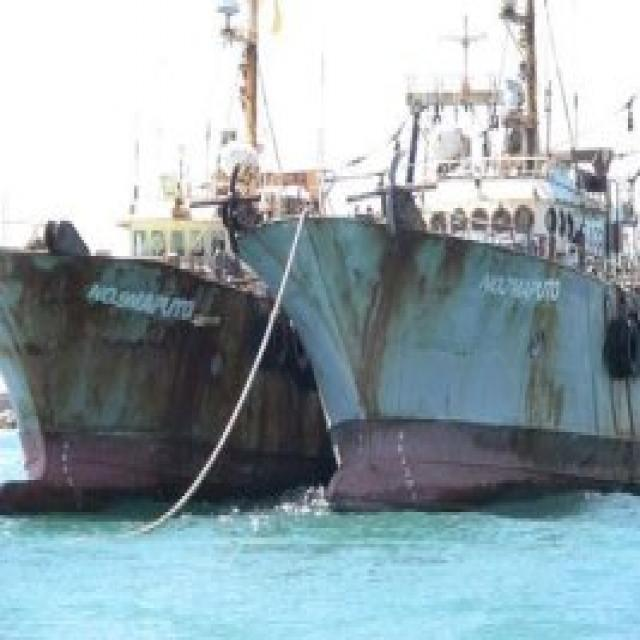Ship: (224, 1, 640, 542), (1, 1, 341, 535)
